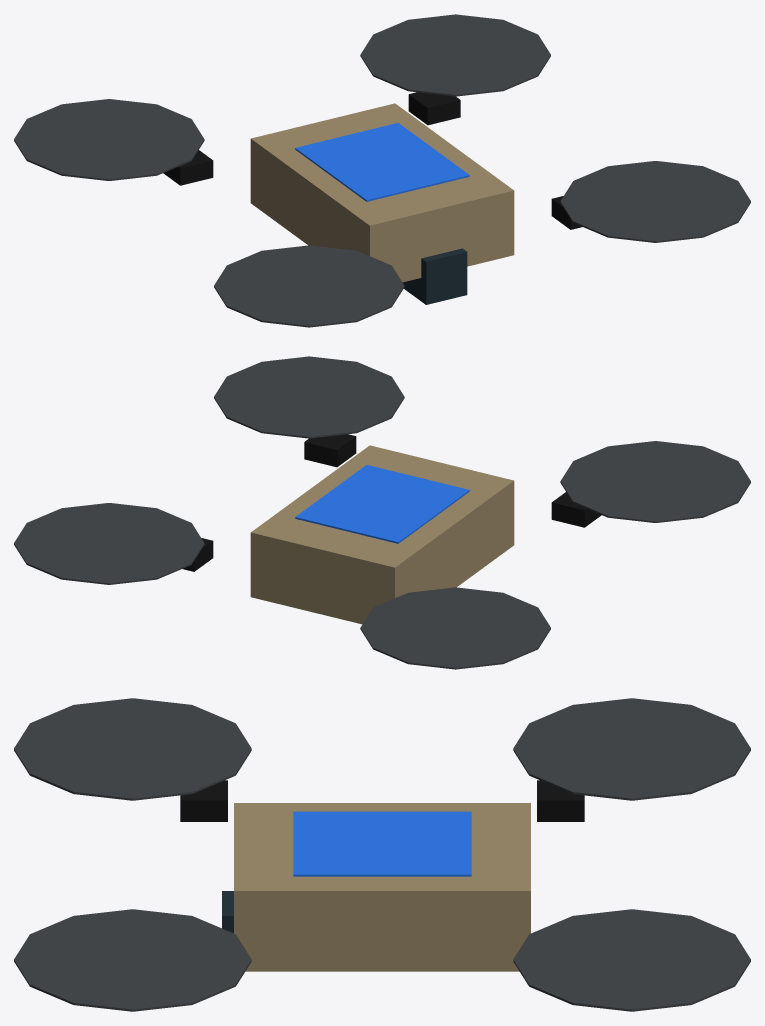
Rendered from ae_attack_heli.glb.
The picture shows the model from 3 angles, top to bottom: view 1: azimuth 30°, elevation 25°; view 2: azimuth 150°, elevation 25°; view 3: azimuth 270°, elevation 25°; orthographic projection. The views are drawn at different scales.
Parts seen in each view (by area): view 1: body, rotor_0, rotor_3, rotor_1, rotor_2, team_plate, camera_pod, arm_3, arm_2; view 2: body, rotor_1, rotor_2, rotor_0, rotor_3, team_plate, arm_1, arm_0; view 3: body, rotor_0, rotor_1, rotor_2, rotor_3, team_plate, arm_0, arm_2.
Boxes of the visible parts, x1,y1,x2,y2 form: body: [250, 103, 514, 282]; rotor_0: [214, 245, 404, 327]; rotor_3: [360, 14, 550, 96]; rotor_1: [560, 161, 750, 242]; rotor_2: [14, 99, 204, 180]; team_plate: [295, 123, 469, 201]; camera_pod: [402, 248, 467, 304]; arm_3: [408, 92, 460, 125]; arm_2: [163, 150, 213, 185]; body: [250, 445, 514, 624]; rotor_1: [214, 356, 404, 438]; rotor_2: [360, 587, 550, 669]; rotor_0: [560, 441, 750, 522]; rotor_3: [14, 503, 204, 584]; team_plate: [295, 465, 469, 543]; arm_1: [304, 434, 356, 467]; arm_0: [551, 492, 601, 527]; body: [234, 803, 530, 971]; rotor_0: [14, 698, 251, 800]; rotor_1: [14, 909, 251, 1011]; rotor_2: [513, 698, 750, 800]; rotor_3: [513, 909, 750, 1011]; team_plate: [293, 811, 471, 876]; arm_0: [180, 780, 227, 821]; arm_2: [537, 780, 584, 821].
Size of the model in its own units: 6.2 by 1.06 by 6.2.
